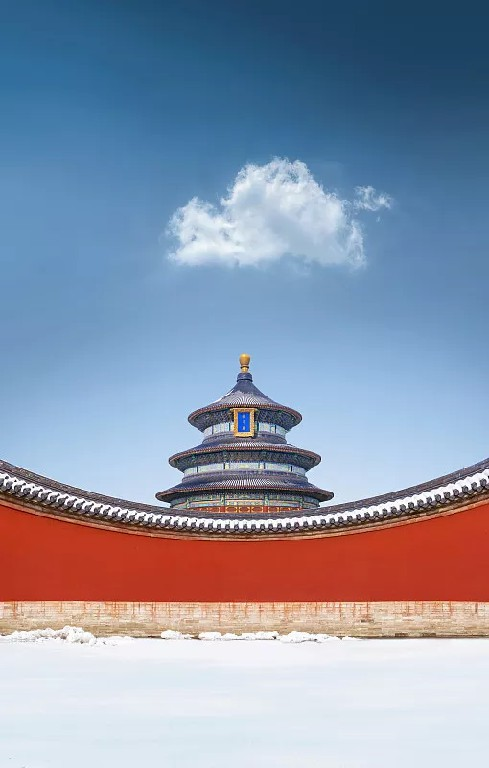Heaven: (153, 353, 334, 516)
